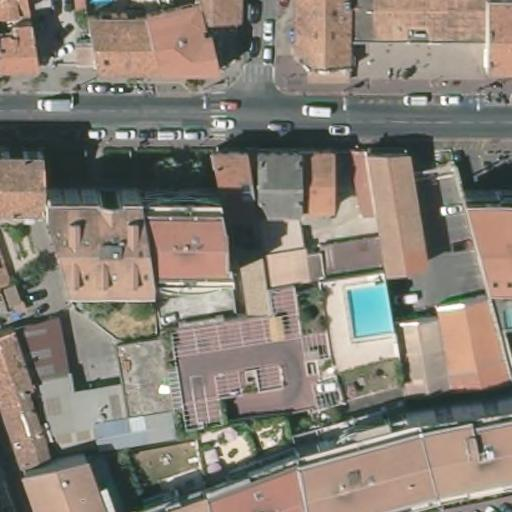pool: (342, 277, 400, 341)
